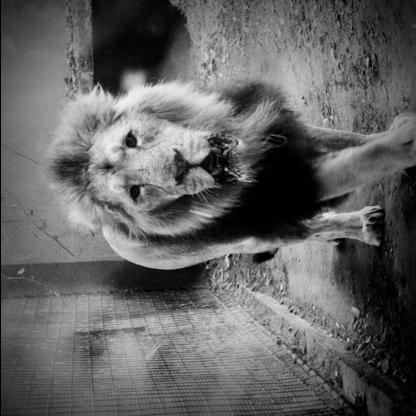lion: (64, 86, 252, 228)
